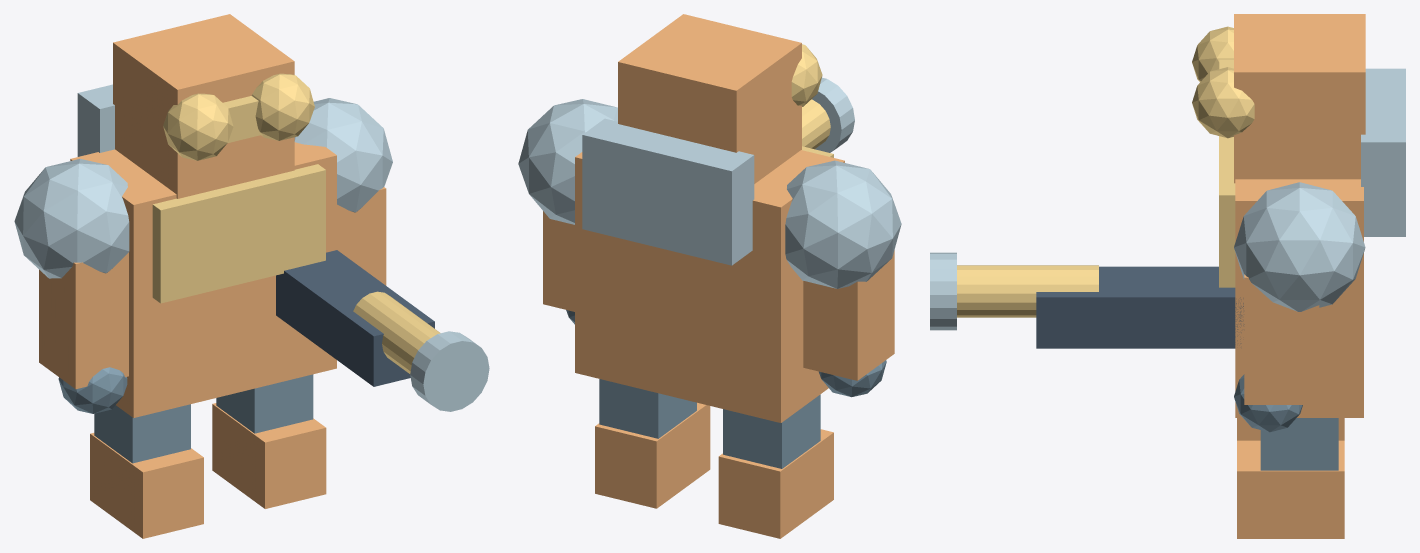
Rendered from nova_engineer.glb.
The picture shows the model from 3 angles, left to right: view 1: azimuth 30°, elevation 25°; view 2: azimuth 150°, elevation 25°; view 3: azimuth 270°, elevation 25°; orthographic projection.
Visible parts, largest first — view 1: torso_4, helmet_6, chestplate_5, shoulder_joint_8, weapon_body_15, arm_armor_9, boots_2, boots_0, shoulder_joint_11, weapon_muzzle_17, leg_armor_1, leg_armor_3 (+7 smaller); view 2: torso_4, helmet_6, power_backpack_14, shoulder_joint_8, arm_armor_9, boots_0, boots_2, shoulder_joint_11, leg_armor_1, leg_armor_3, arm_armor_12, weapon_muzzle_17 (+3 smaller); view 3: helmet_6, weapon_body_15, shoulder_joint_11, torso_4, boots_2, arm_armor_12, power_backpack_14, energy_barrel_16, leg_armor_3, goggle_lens_19, chestplate_5, weapon_muzzle_17 (+3 smaller).
Boxes of the visible parts, bbox=[...] form: torso_4: bbox=[70, 142, 336, 417]; helmet_6: bbox=[113, 14, 294, 198]; chestplate_5: bbox=[152, 164, 325, 303]; shoulder_joint_8: bbox=[14, 158, 129, 278]; weapon_body_15: bbox=[276, 250, 434, 386]; arm_armor_9: bbox=[39, 252, 128, 389]; boots_2: bbox=[212, 403, 326, 508]; boots_0: bbox=[90, 433, 203, 538]; shoulder_joint_11: bbox=[294, 98, 392, 212]; weapon_muzzle_17: bbox=[410, 331, 489, 411]; leg_armor_1: bbox=[94, 404, 190, 463]; leg_armor_3: bbox=[216, 374, 313, 433]; torso_4: bbox=[575, 150, 844, 422]; helmet_6: bbox=[618, 14, 801, 183]; power_backpack_14: bbox=[582, 118, 754, 265]; shoulder_joint_8: bbox=[785, 160, 901, 288]; arm_armor_9: bbox=[803, 250, 894, 380]; boots_0: bbox=[718, 429, 833, 538]; boots_2: bbox=[595, 402, 710, 508]; shoulder_joint_11: bbox=[518, 99, 617, 224]; leg_armor_1: bbox=[723, 394, 820, 468]; leg_armor_3: bbox=[599, 379, 696, 438]; arm_armor_12: bbox=[543, 211, 574, 311]; weapon_muzzle_17: bbox=[812, 77, 854, 152]; helmet_6: bbox=[1234, 14, 1365, 183]; weapon_body_15: bbox=[1036, 266, 1244, 348]; shoulder_joint_11: bbox=[1234, 182, 1365, 311]; torso_4: bbox=[1235, 179, 1363, 417]; boots_2: bbox=[1237, 440, 1344, 538]; arm_armor_12: bbox=[1244, 274, 1319, 404]; power_backpack_14: bbox=[1361, 68, 1405, 236]; energy_barrel_16: bbox=[957, 265, 1098, 317]; leg_armor_3: bbox=[1260, 418, 1338, 470]; goggle_lens_19: bbox=[1192, 67, 1254, 138]; chestplate_5: bbox=[1219, 136, 1235, 287]; weapon_muzzle_17: bbox=[930, 252, 956, 330].
Bounding box in the file's own units: 1.42 × 1.66 × 1.59.
